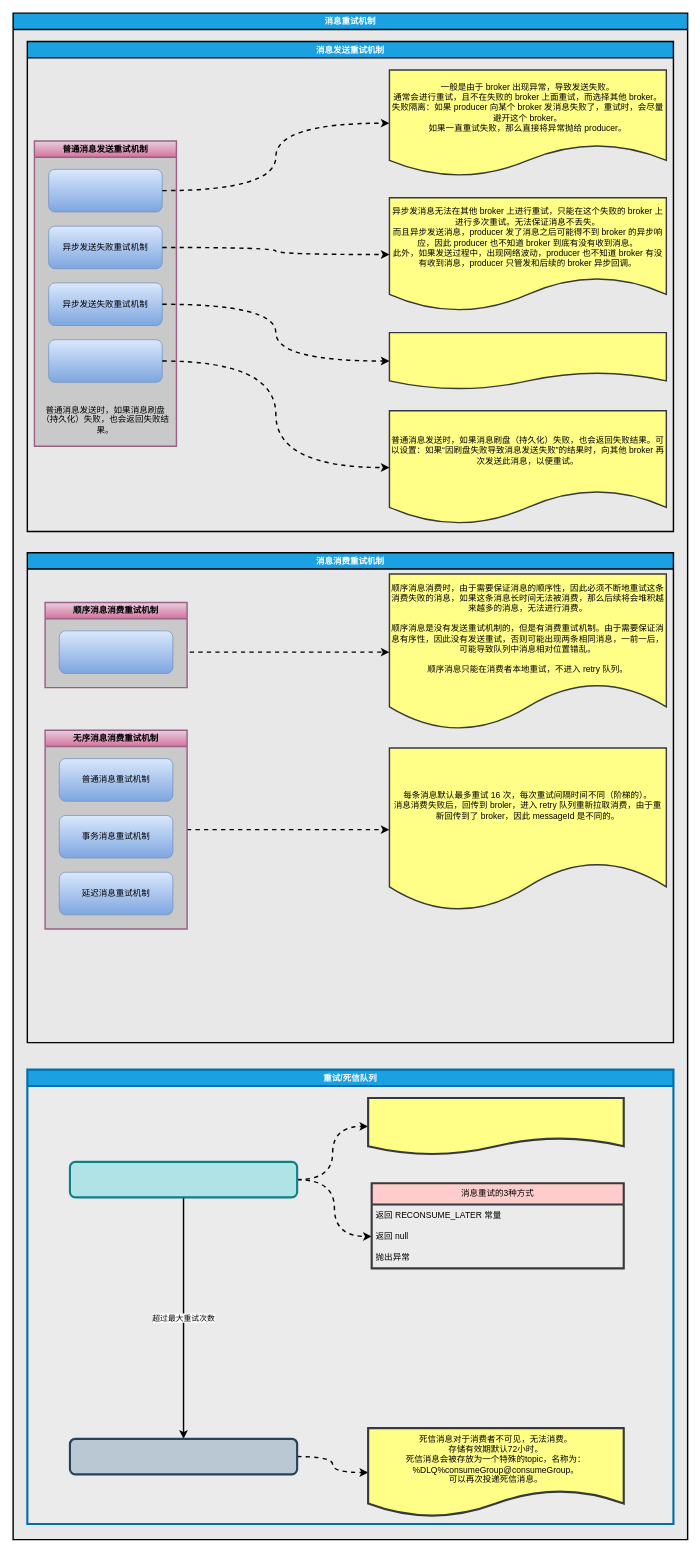
This 700x1552 diagram has some shape labels left out. Here are the shapes that lost their labels. From the top down, the centre of each, then its label:
the point at 105,190: 同步发送失败重试机制
the point at 105,360: 消息刷盘失败机制
the point at 527,361: 单向发送消息，producer 只管发，发成功与否都不管，因此没有重试机制。
the point at 116,651: 顺序消息重试机制
the point at 495,1126: 重试队列复用了延时消息的能力，当需要重试时，会将消息丢到延时消息队列中。
the point at 183,1179: 重试队列
the point at 183,1456: 死信队列
